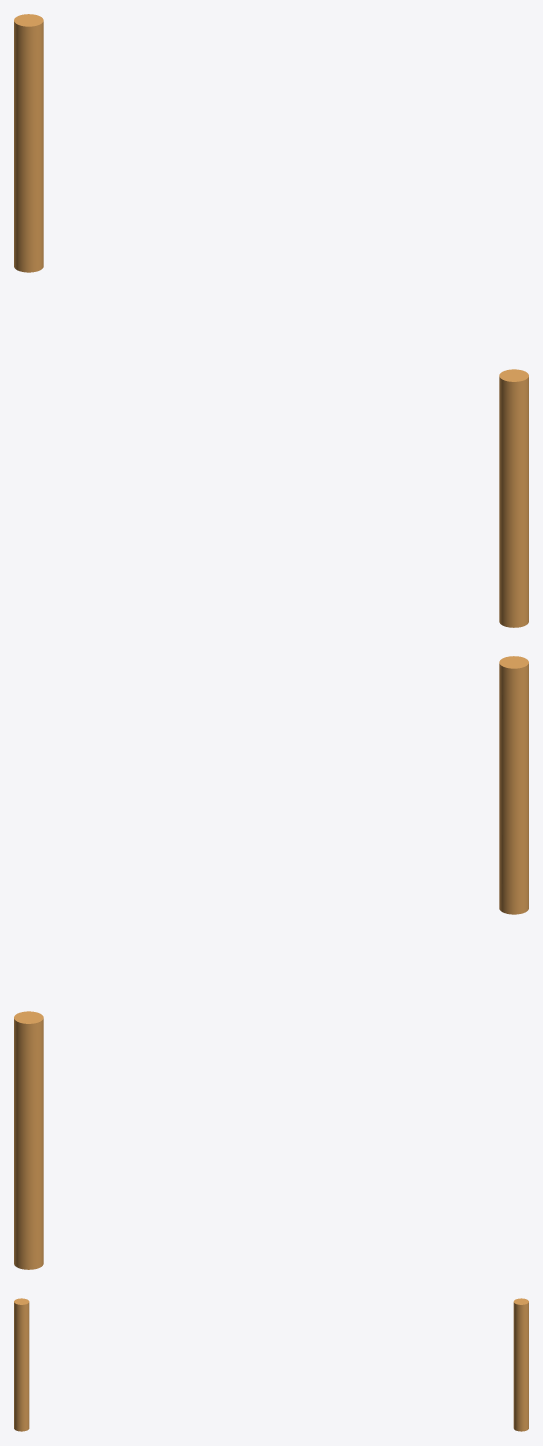
File: CONTROL__STEERING__STEERING COMPONENTS__50mm dummy shafts.glb
The picture shows the model from 3 angles, top to bottom: view 1: azimuth 30°, elevation 25°; view 2: azimuth 150°, elevation 25°; view 3: azimuth 270°, elevation 25°; orthographic projection. The views are drawn at different scales.
Visible parts, largest first — view 1: Imported 18 (×2), Imported 19 (×2); view 2: Imported 19 (×2), Imported 18 (×2); view 3: Imported 18 (×2), Imported 19 (×2).
Boxes of the visible parts, <box> form: Imported 18 (×2): <box>499,369,528,627</box>; Imported 19 (×2): <box>14,14,43,272</box>; Imported 19 (×2): <box>14,1011,43,1269</box>; Imported 18 (×2): <box>499,656,528,914</box>; Imported 18 (×2): <box>14,1298,29,1431</box>; Imported 19 (×2): <box>513,1298,528,1431</box>.
Bounding box in the file's own units: 0.05 × 0.4572 × 1.69.
